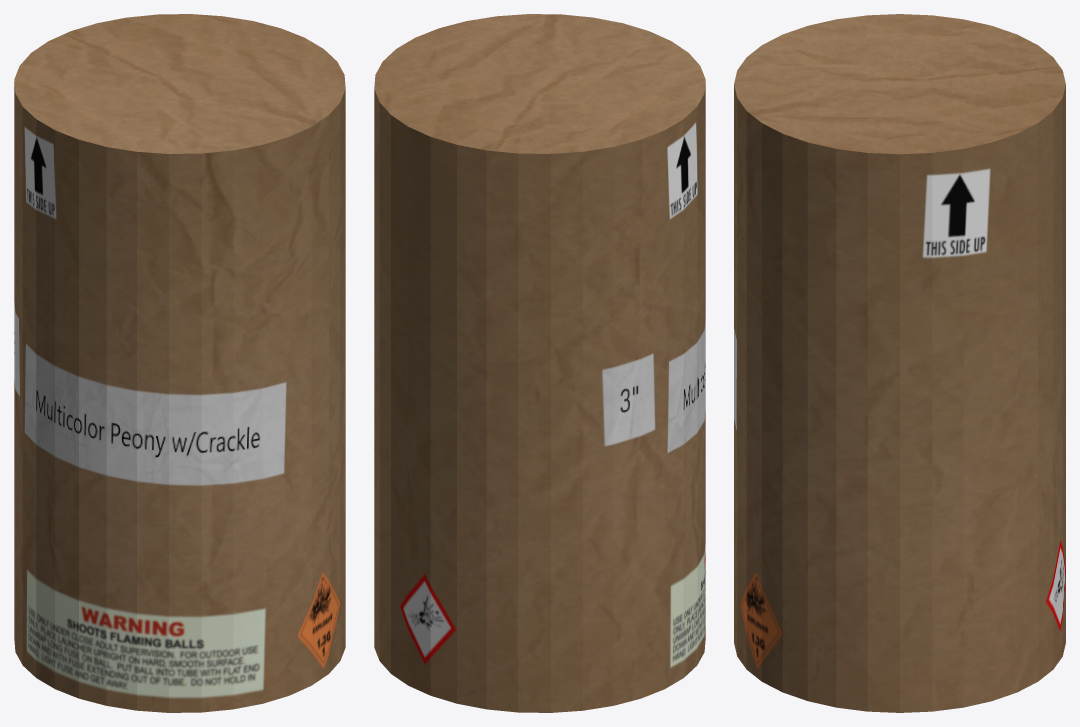
Rendered from Shell Canister 3 Inch MulticolorPeonyCrackle.fbx.
The picture shows the model from 3 angles, left to right: view 1: azimuth 30°, elevation 25°; view 2: azimuth 150°, elevation 25°; view 3: azimuth 270°, elevation 25°; orthographic projection.
Parts seen in each view (by area): view 1: Cylinder; view 2: Cylinder; view 3: Cylinder.
Part boxes in pixels (left/top/right/bottom): Cylinder: left=14, top=14, right=345, bottom=712; Cylinder: left=374, top=14, right=705, bottom=712; Cylinder: left=734, top=14, right=1065, bottom=712.
Size of the model in its own units: 14 by 26 by 14.
